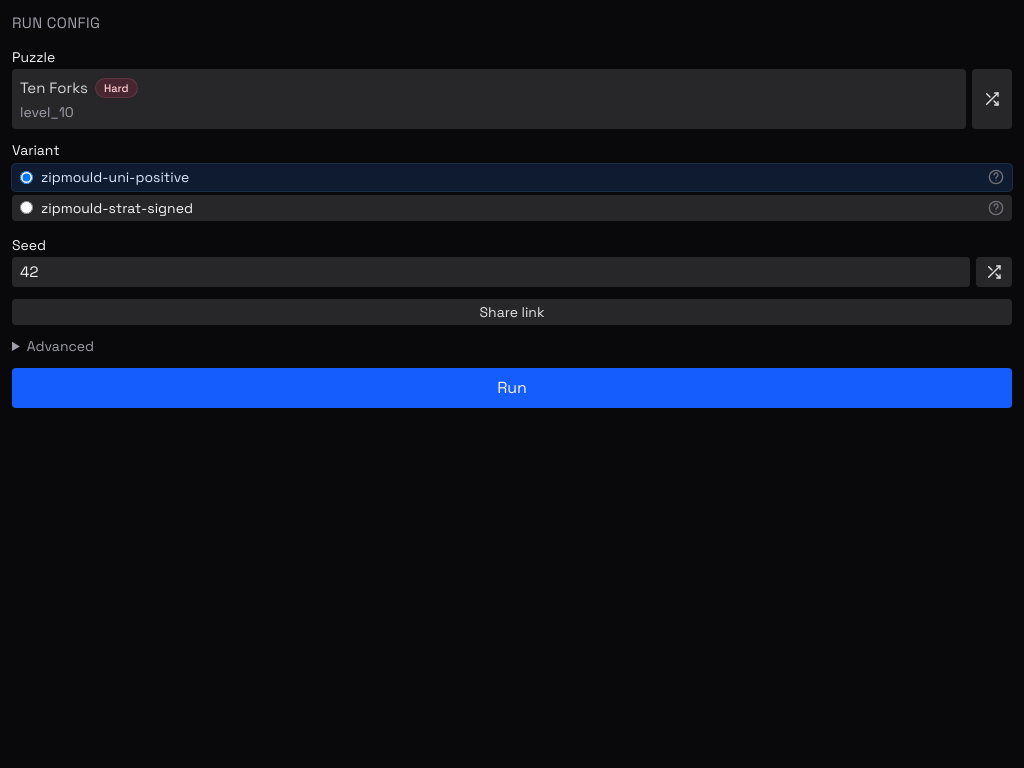
Test case: ConfigPanel › filters picker results by text, difficulty, size, and waypoint count
Click the button with test id "open-puzzle-picker".
click(54, 88)  # box [12,69,966,129]
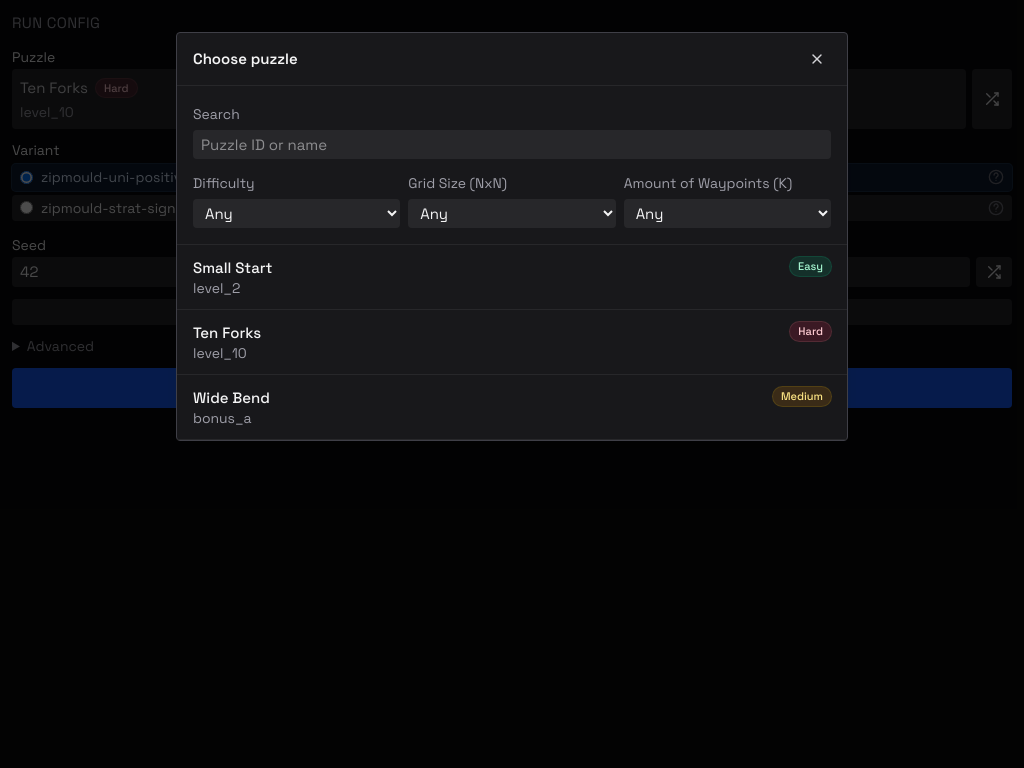
Type "wide" into the search field with test id "puzzle-search".
click(512, 145); type("wide")  # box [193,130,831,159]
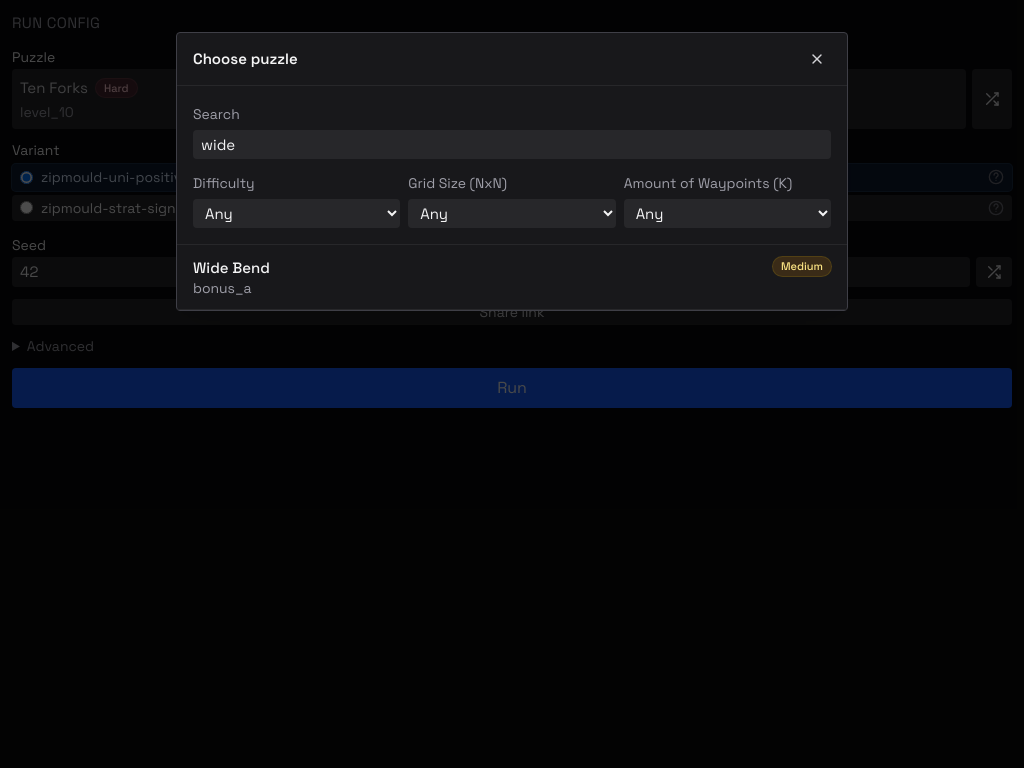
Now the dialog shows "bonus_a", box [177,245,847,310]
Now the button "level_2" no longer shows "level_2"
Clear the search field with test id "puzzle-search" at {"x": 512, "y": 145}, box [193,130,831,159]
Select "Easy" in the dropdown with test id "puzzle-difficulty-filter" at {"x": 297, "y": 214}, box [193,199,400,228]
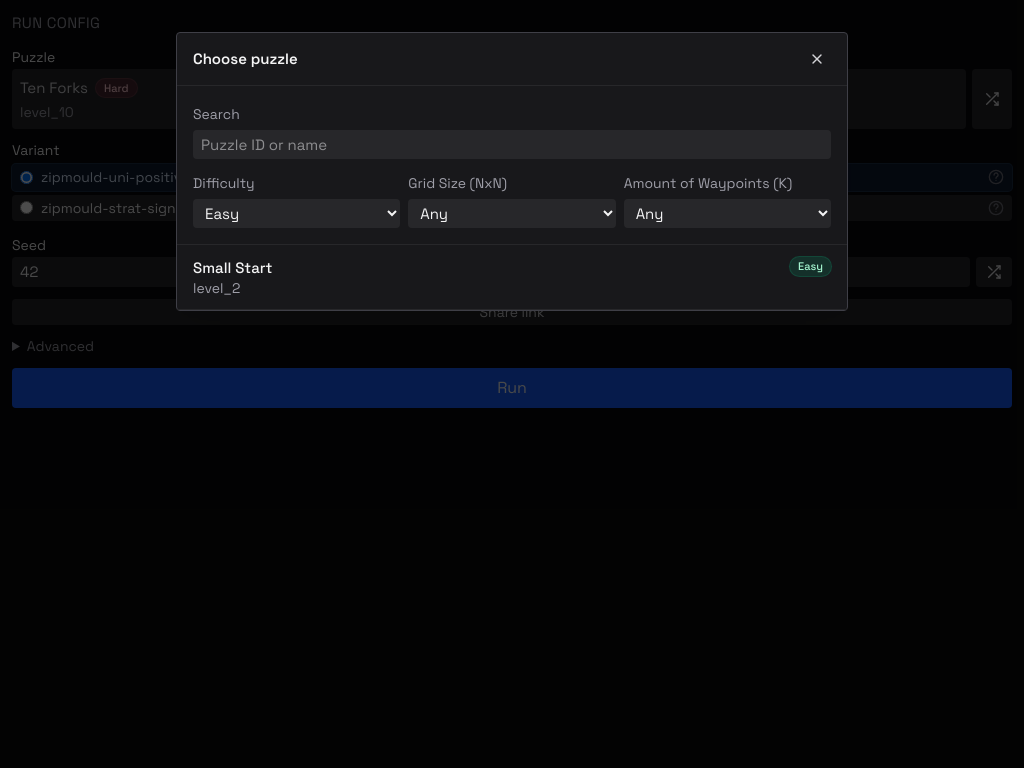
Expected: the text "level_10" is not shown
Now the dialog shows "level_2", box [177,245,847,310]
Select "Any" in the dropdown with test id "puzzle-difficulty-filter" at {"x": 297, "y": 214}, box [193,199,400,228]
Select "8" in the dropdown with test id "puzzle-size-filter" at {"x": 512, "y": 214}, box [408,199,616,228]
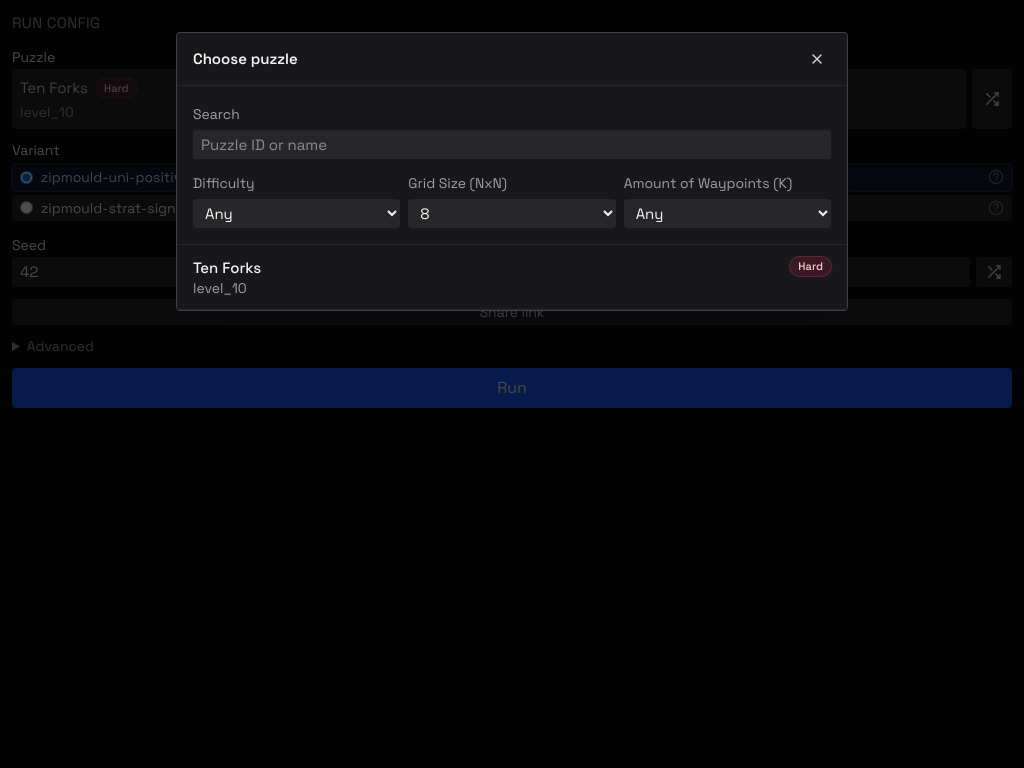
Expected: the button "bonus_a" does not show "bonus_a"
Now the dialog shows "level_10", box [177,245,847,310]
Select "Any" in the dropdown with test id "puzzle-size-filter" at {"x": 512, "y": 214}, box [408,199,616,228]
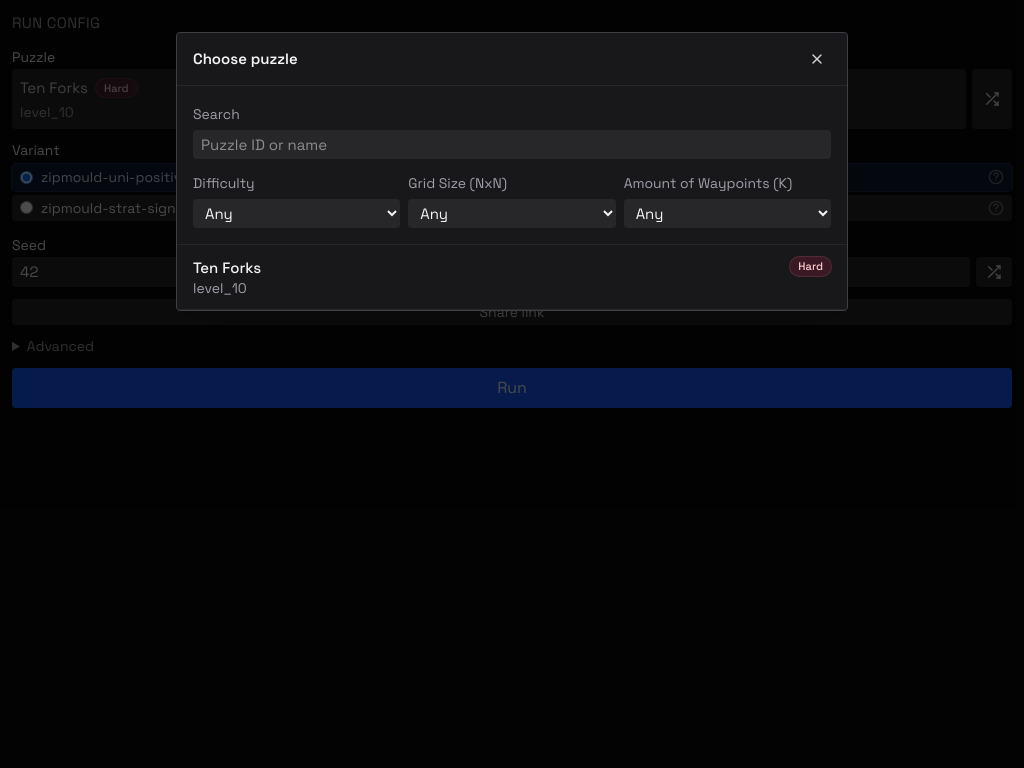
Select "3" in the dropdown with test id "puzzle-waypoint-filter" at {"x": 727, "y": 214}, box [624,199,831,228]
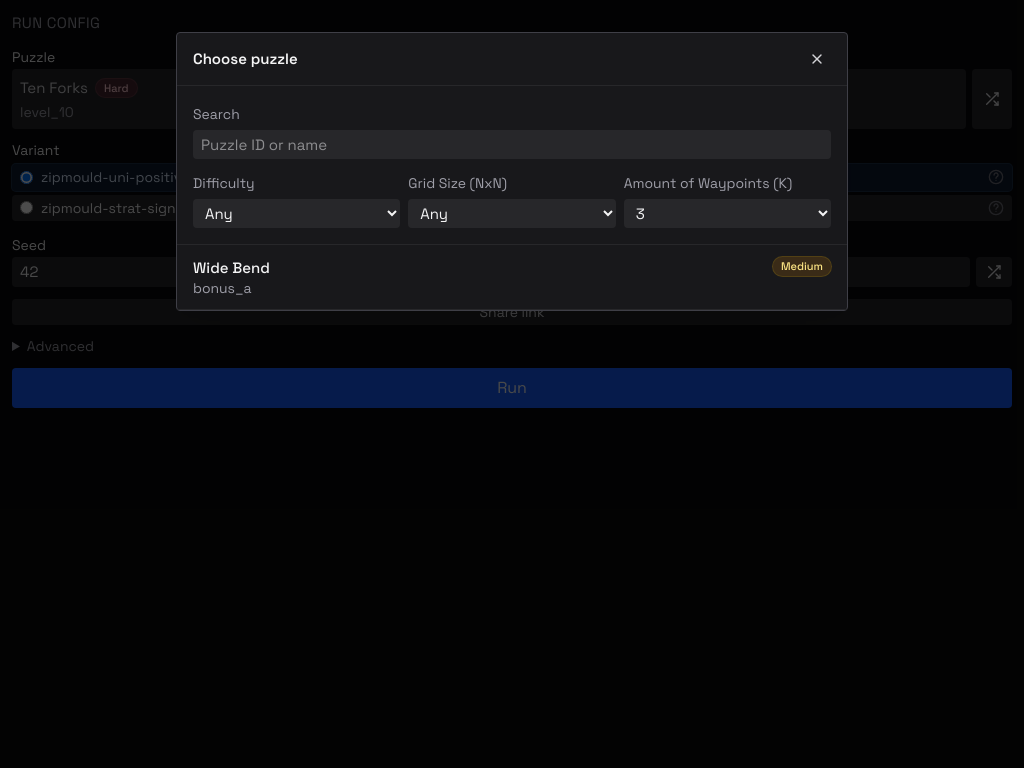
Expected: the button "level_2" does not show "level_2"
Now the dialog shows "bonus_a", box [177,245,847,310]
